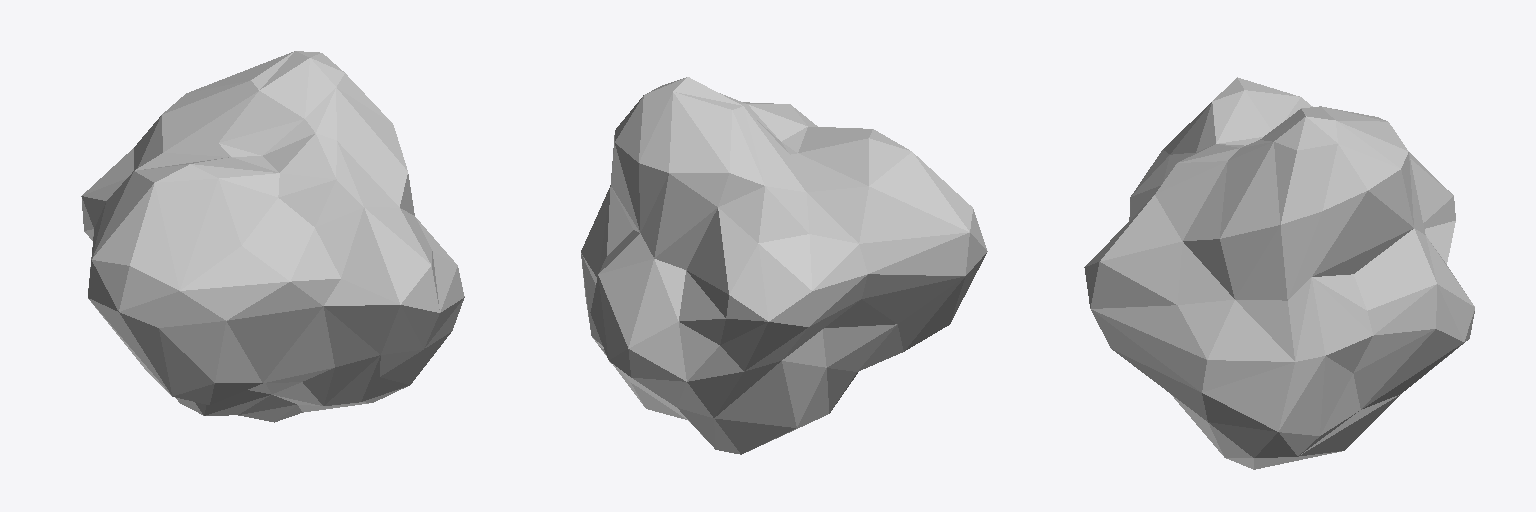
Rendered from asteroidLD.obj.
The picture shows the model from 3 angles: view 1: azimuth 30°, elevation 25°; view 2: azimuth 150°, elevation 25°; view 3: azimuth 270°, elevation 25°; orthographic projection.
Size of the model in its own units: 1.04 by 0.9345 by 0.9607.